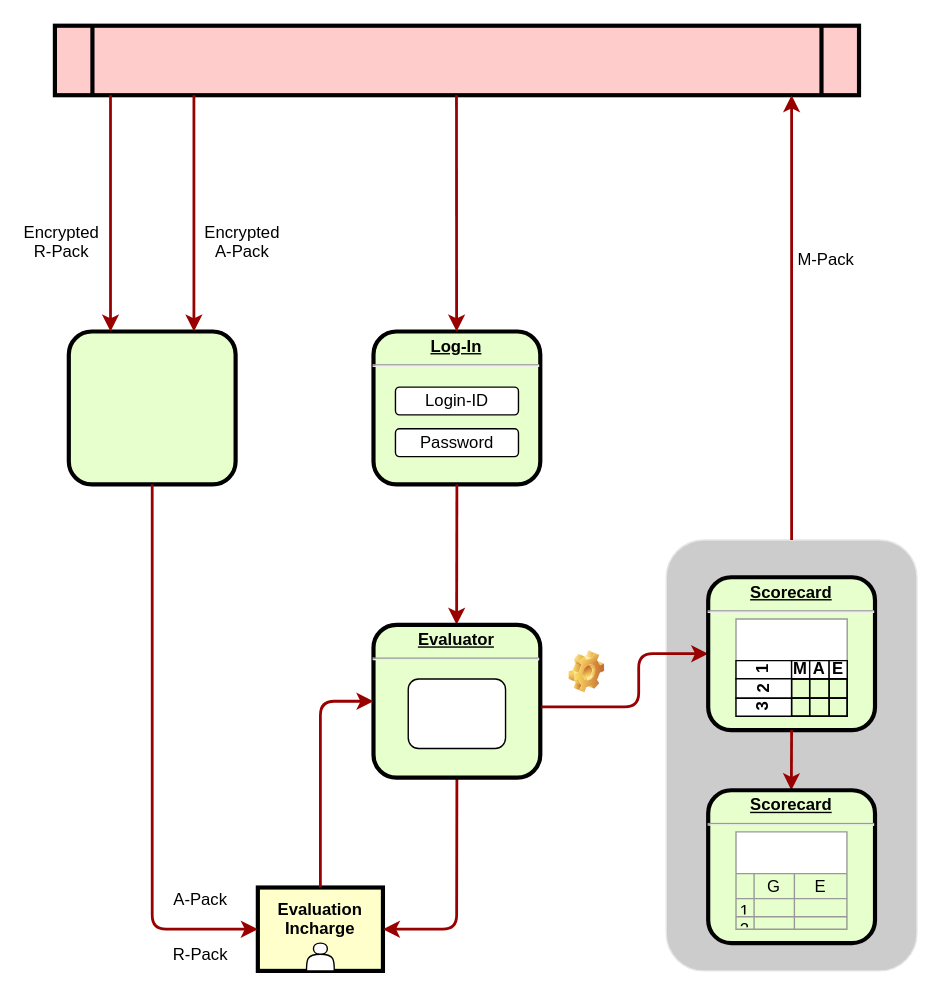
The diagram is 941 pixels wide and 997 high, and some of its shapes have lost their labels. The shapes that lost their labels are listed below. From the top down, each one's box as (x1, y1, x2, y2) in pixels, then its label:
(52, 23, 860, 97): SECURE SFTP SERVER IN INTERNET ZONE
(66, 329, 237, 486): Decryption Decrypting R-Pack and A-Pack
(735, 618, 847, 716): GRADES
(407, 678, 506, 749): Work Package
(735, 831, 847, 929): AUDIT TRIAL
